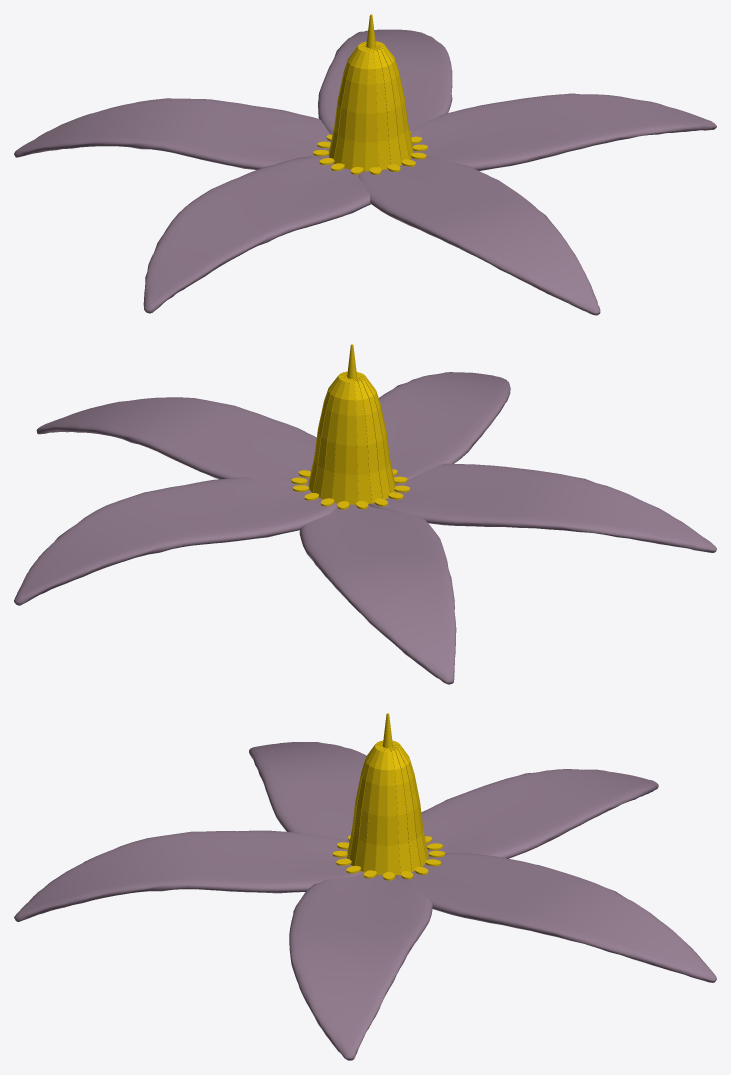
File: nightshade.fbx
The picture shows the model from 3 angles, top to bottom: view 1: azimuth 30°, elevation 25°; view 2: azimuth 150°, elevation 25°; view 3: azimuth 270°, elevation 25°; orthographic projection. The views are drawn at different scales.
Parts seen in each view (by area): view 1: petal1, petal2, petal5, petal3, stem, petal4, stemdots_; view 2: petal4, petal3, petal2, petal5, petal1, stem, stemdots_; view 3: petal5, petal4, petal1, petal3, petal2, stem, stemdots_.
Boxes of the visible parts, x1,y1,x2,y2 form: petal1: (358, 156, 600, 315); petal2: (143, 155, 370, 313); petal5: (409, 93, 716, 170); petal3: (14, 98, 330, 169); stem: (329, 41, 413, 171); petal4: (318, 29, 452, 137); stemdots_: (313, 131, 427, 174); petal4: (14, 477, 337, 605); petal3: (299, 504, 456, 684); petal2: (368, 463, 716, 552); petal5: (36, 397, 316, 485); petal1: (379, 372, 510, 479); stem: (308, 371, 395, 504); stemdots_: (291, 469, 410, 509); petal5: (289, 872, 432, 1060); petal4: (395, 853, 716, 982); petal1: (14, 830, 363, 921); petal3: (421, 769, 658, 858); petal2: (249, 742, 366, 840); stem: (347, 740, 428, 875); stemdots_: (332, 835, 444, 880).
Bounding box in the file's own units: 8.66 × 2.44 × 8.3.
